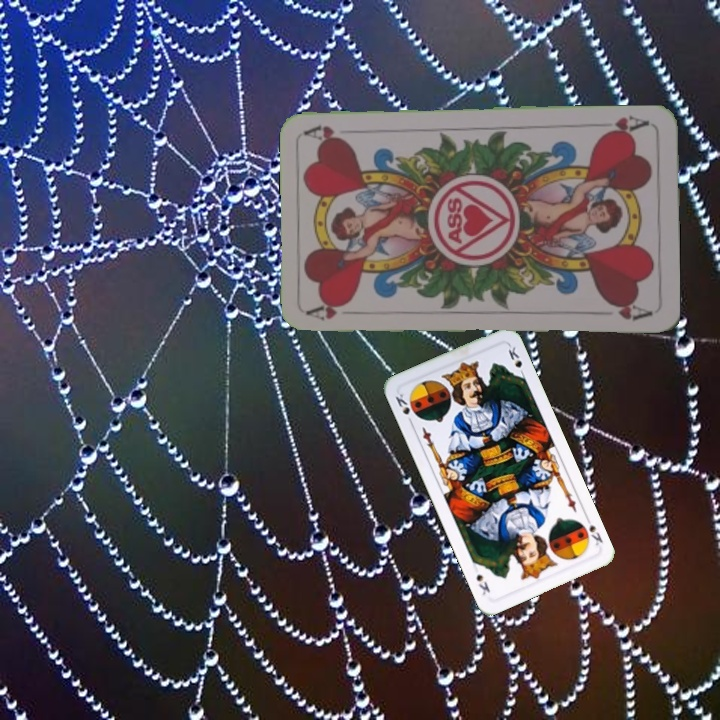HA: (594, 112, 653, 139), (305, 299, 364, 323)
SK: (391, 389, 416, 428), (581, 512, 605, 548)
